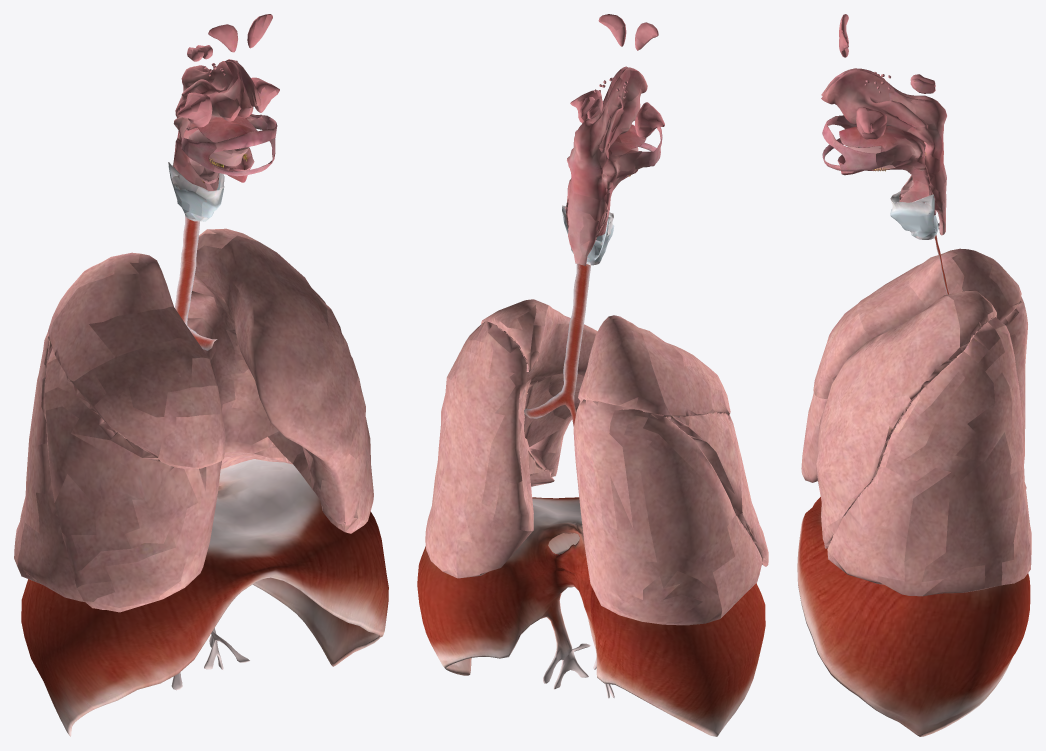
The model's file is Respiratory.glb.
3 views of the same model, side by side, from view 1: azimuth 30°, elevation 25°; view 2: azimuth 150°, elevation 25°; view 3: azimuth 270°, elevation 25° (orthographic). The views are drawn at different scales.
Visible parts, largest first — view 1: skin0_14_11; view 2: skin0_14_11; view 3: skin0_14_11.
Part boxes in pixels (<box>): skin0_14_11: <box>14,14,388,736</box>; skin0_14_11: <box>417,14,768,736</box>; skin0_14_11: <box>797,14,1031,736</box>.
Size of the model in its own units: 28.37 by 58.25 by 18.85.
3 materials, 3 textured.
